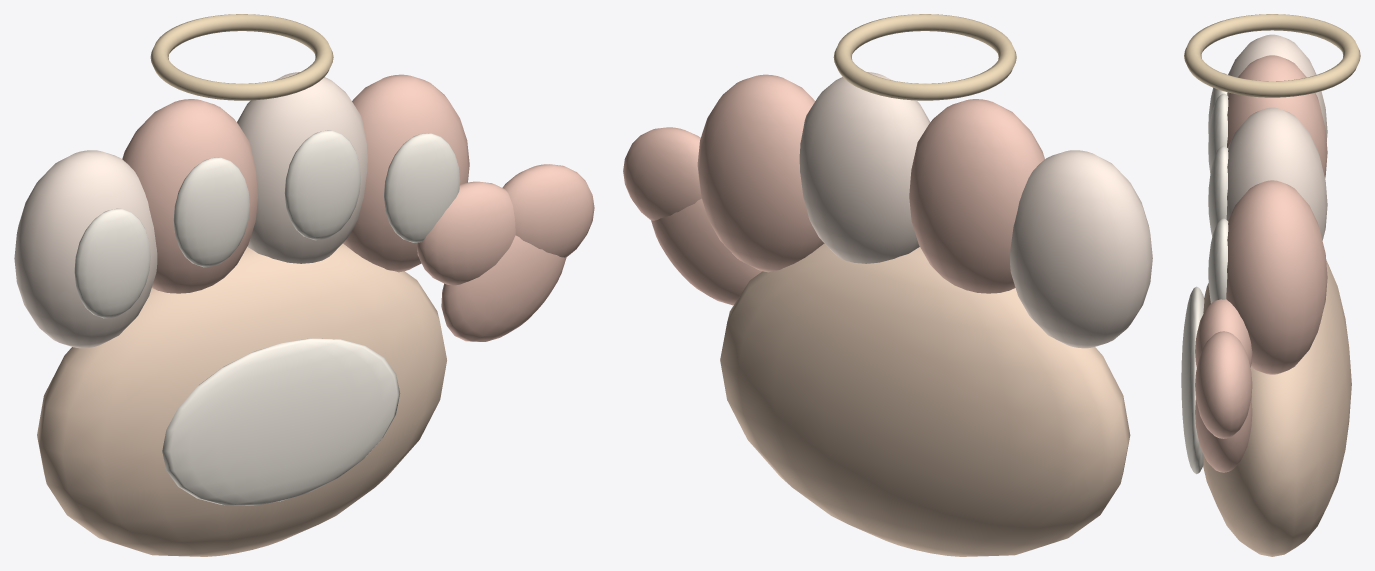
File: mypets-paw-charm-animated.glb
3 renders of one model, left to right at view 1: azimuth 30°, elevation 25°; view 2: azimuth 150°, elevation 25°; view 3: azimuth 270°, elevation 25°, orthographic. The views are drawn at different scales.
Parts seen in each view (by area): view 1: Main soft pad, Raised heart pad, Toe 1, Toe 2, Toe 3, Toe 4, Heart tip, Heart left, Loop, Toe blush 1, Toe blush 3, Toe blush 2 (+2 smaller); view 2: Main soft pad, Toe 1, Toe 2, Toe 3, Toe 4, Loop, Heart right, Heart tip; view 3: Main soft pad, Toe 4, Toe 3, Loop, Heart right, Toe 2, Raised heart pad, Toe 1, Heart tip, Heart left, Toe blush 4, Toe blush 3 (+2 smaller).
Part boxes in pixels (x1,y1,x2,y2): Main soft pad: (37,243,446,556); Raised heart pad: (162,338,400,505); Toe 1: (14,150,157,348); Toe 2: (122,99,257,293); Toe 3: (237,72,367,263); Toe 4: (343,74,469,272); Heart tip: (441,235,566,341); Heart left: (417,181,515,285); Loop: (150,14,333,100); Toe blush 1: (74,208,150,318); Toe blush 3: (284,130,360,240); Toe blush 2: (173,157,249,267); Main soft pad: (720,243,1130,556); Toe 1: (1010,150,1152,348); Toe 2: (909,99,1044,293); Toe 3: (799,72,930,263); Toe 4: (697,74,824,272); Loop: (833,14,1016,100); Heart right: (623,127,701,220); Heart tip: (651,198,762,305); Main soft pad: (1203,260,1351,556); Toe 4: (1226,180,1327,374); Toe 3: (1226,107,1327,240); Loop: (1184,14,1360,97); Heart right: (1195,331,1252,438); Toe 2: (1227,55,1327,178); Raised heart pad: (1181,286,1204,474); Toe 1: (1227,34,1327,141); Heart tip: (1195,398,1252,472); Heart left: (1195,299,1252,367); Toe blush 4: (1208,218,1228,303); Toe blush 3: (1208,146,1228,236).
Size of the model in its own units: 1.38 by 1.2 by 0.4058.
